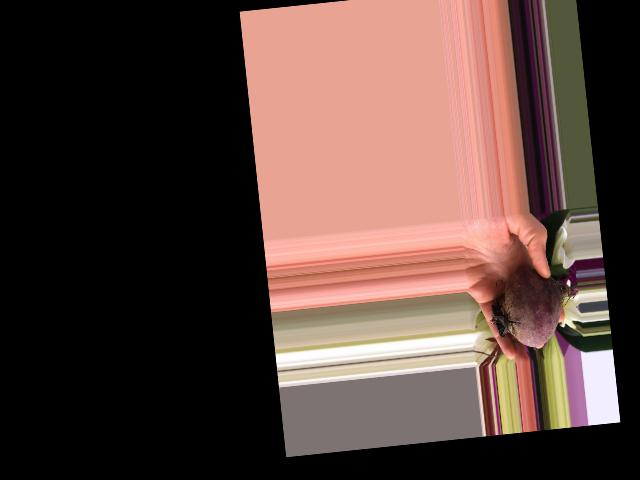beet: (484, 263, 583, 352)
